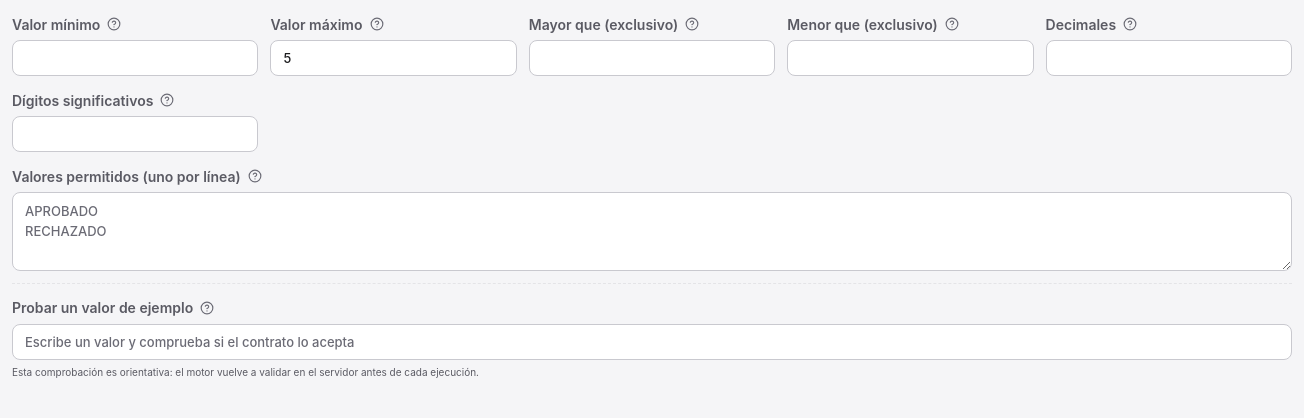
ConstraintEditor › avisa cuando el valor de ejemplo incumple el contrato
Type "9" into the field labelled "Probar un valor de ejemplo". click: (652,342)
box: x1=12 y1=324 x2=1292 y2=360
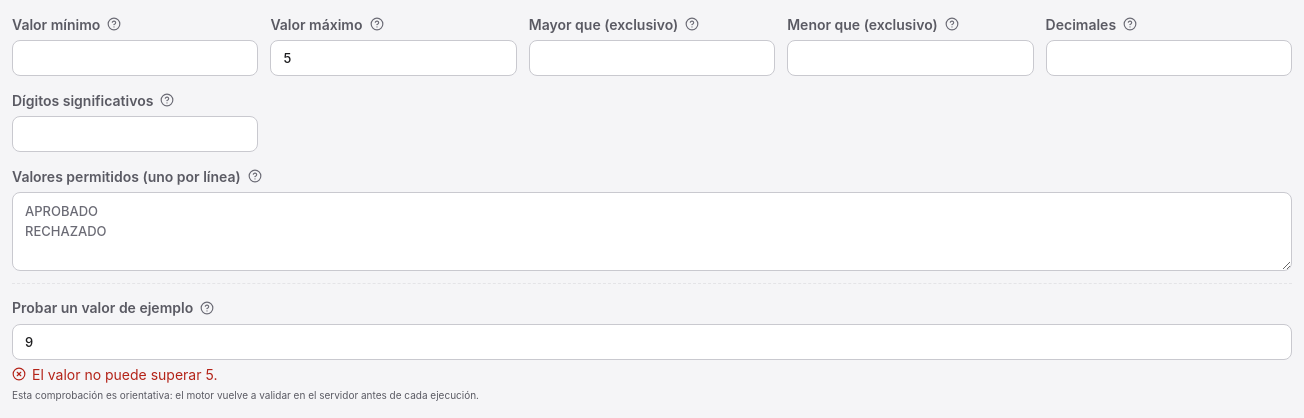
Expected: the text "El valor no puede superar 5." is shown, x1=12 y1=366 x2=217 y2=382
